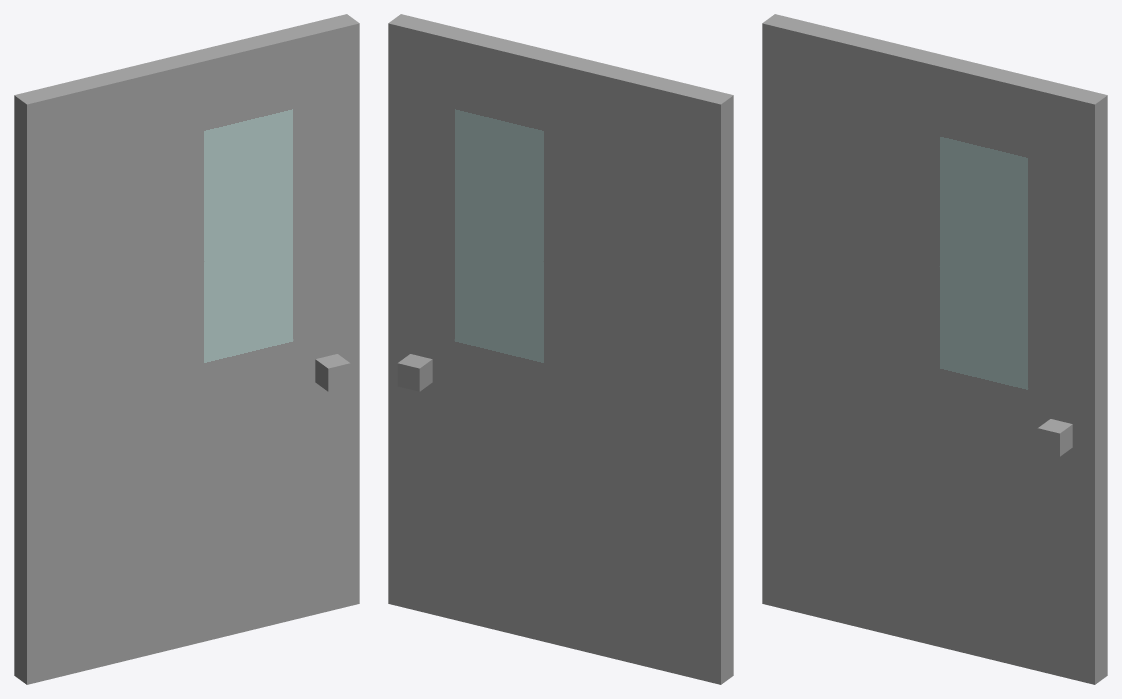
Rendered from Door.fbx.
3 renders of one model, left to right at view 1: azimuth 30°, elevation 25°; view 2: azimuth 150°, elevation 25°; view 3: azimuth 330°, elevation 25°, orthographic.
Visible parts, largest first — view 1: Door.001; view 2: Door.001; view 3: Door.001.
Boxes of the visible parts, bbox=[...] form: Door.001: bbox=[14, 14, 359, 684]; Door.001: bbox=[388, 14, 733, 684]; Door.001: bbox=[762, 14, 1107, 684].
Size of the model in its own units: 1.5 by 2.5 by 0.3.
1 material, 1 textured.
